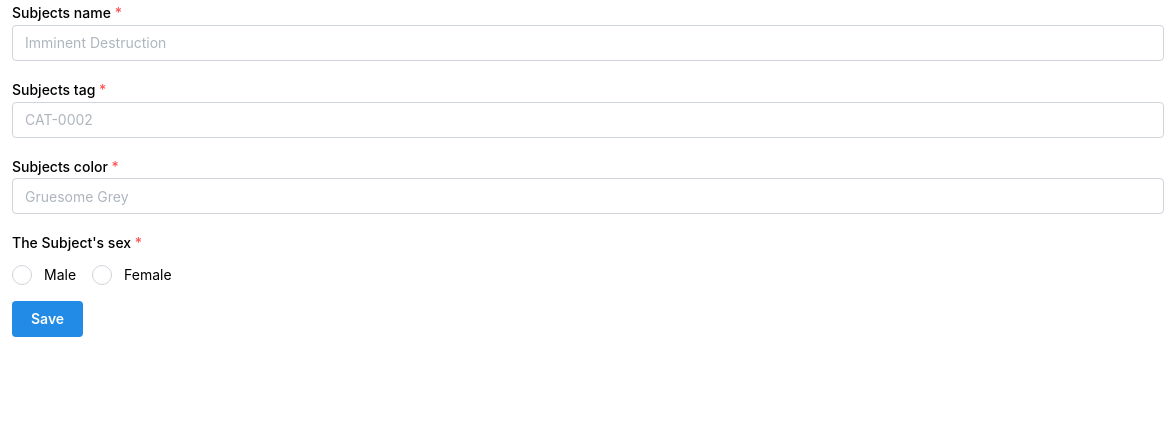
<AddCatForm /> › Name, tag, color, and sex are required
Click the button with id "submitButton": (48, 319) [12,301,83,337]
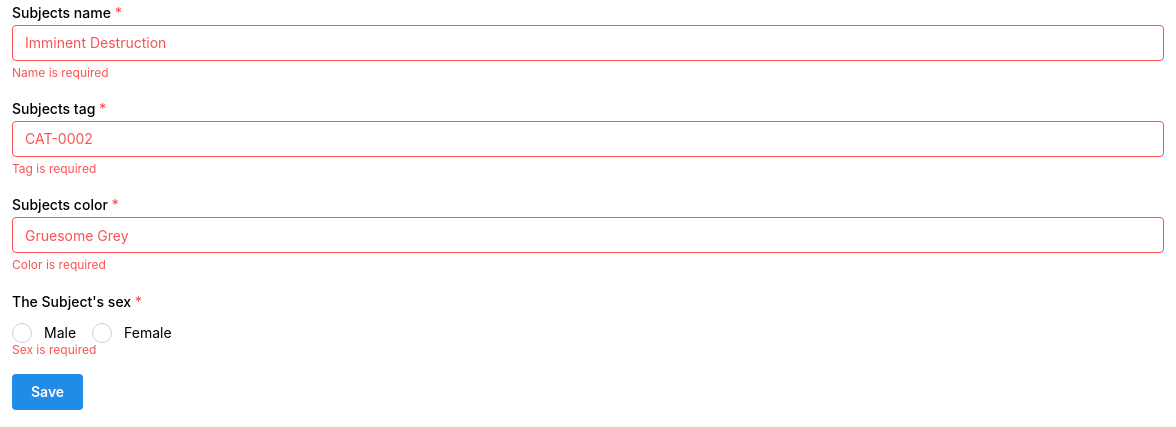
Expected: the text with id "nameTextInput-error" reads "Name is required", [12,65,109,80]
Expected: the text with id "tagTextInput-error" reads "Tag is required", [12,161,96,176]
Expected: the text with id "colorTextInput-error" reads "Color is required", [12,257,106,272]
